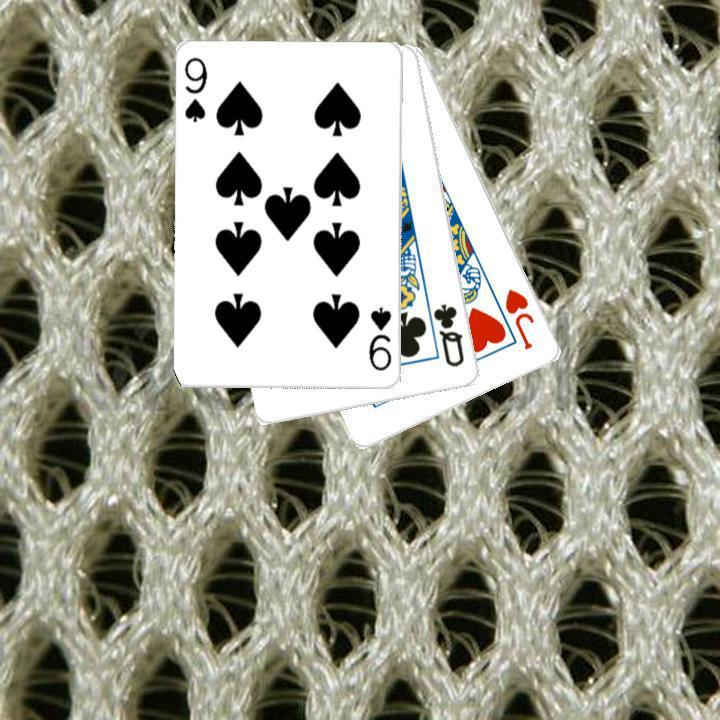9: (364, 303, 394, 374), (180, 53, 209, 124)
J: (501, 284, 537, 352)
Q: (430, 299, 467, 369)
